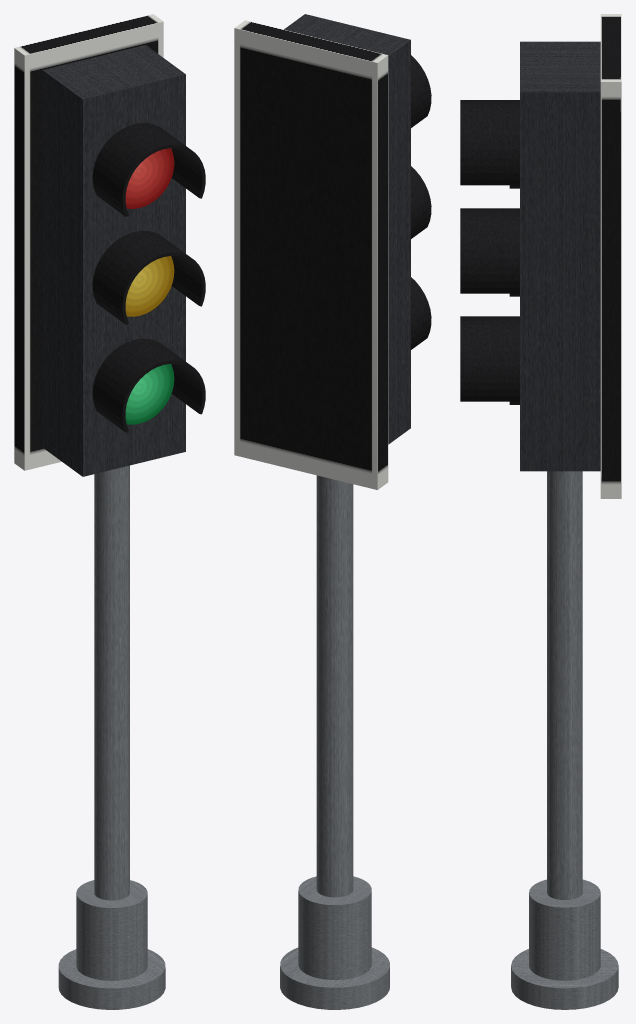
The model's file is traffic_light.obj.
3 renders of one model, left to right at view 1: azimuth 30°, elevation 25°; view 2: azimuth 150°, elevation 25°; view 3: azimuth 270°, elevation 25°, orthographic. The views are drawn at different scales.
Visible parts, largest first — view 1: traffic_light; view 2: traffic_light; view 3: traffic_light.
Part boxes in pixels (x1,y1,x2,y2): traffic_light: [14, 14, 205, 1009]; traffic_light: [234, 14, 431, 1009]; traffic_light: [460, 14, 621, 1009].
Size of the model in its own units: 0.54 by 3.47 by 0.54.
1 material, 1 textured.
